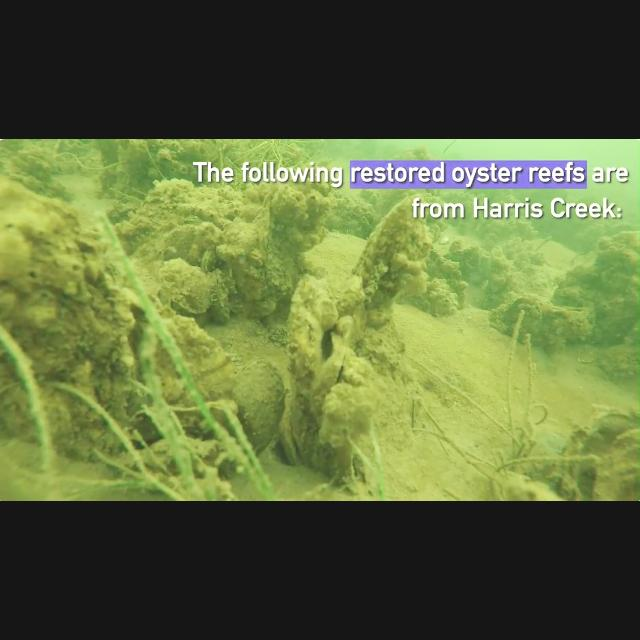Oyster-Closed: (0, 178, 160, 457), (354, 199, 431, 328), (154, 301, 235, 402), (569, 414, 639, 501), (234, 360, 285, 453), (158, 258, 230, 323), (271, 186, 335, 254), (0, 345, 36, 440), (575, 405, 639, 453), (247, 249, 303, 301), (531, 301, 593, 345), (156, 341, 194, 406), (116, 139, 165, 184), (564, 421, 615, 462), (444, 240, 490, 283), (20, 145, 60, 182), (216, 238, 263, 266), (200, 249, 217, 273)
Oyster-Open: (280, 275, 364, 471), (508, 296, 539, 335)
